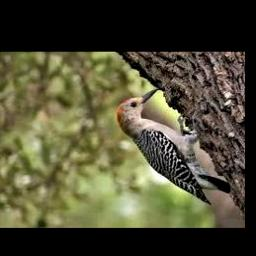Woodpecker: (117, 87, 231, 205)
